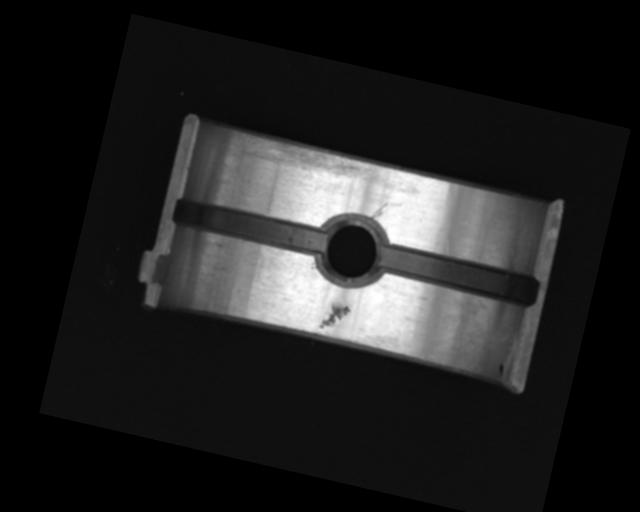blot: (495, 361, 507, 378)
bruise: (316, 296, 353, 335)
gap: (374, 240, 540, 307), (170, 194, 329, 258)
hole: (310, 208, 392, 290)
nick: (369, 200, 387, 222)
scratch: (229, 126, 374, 188)
